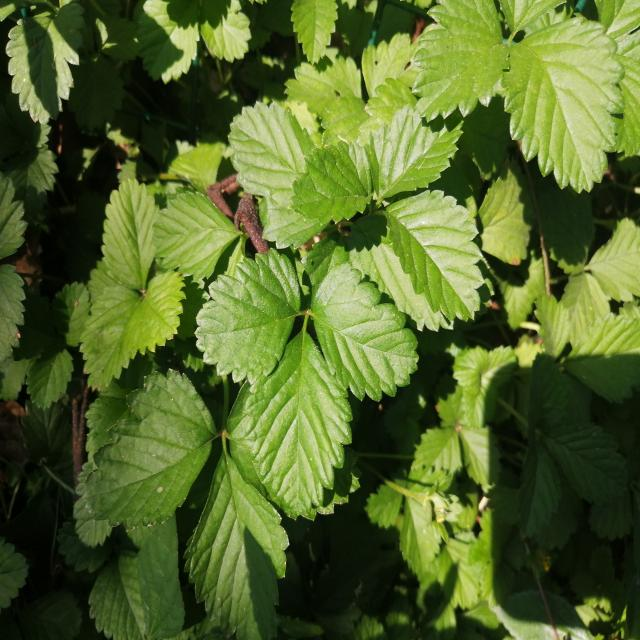Mock_strawberry: (196, 235, 427, 500), (245, 80, 487, 313), (94, 371, 300, 612)
